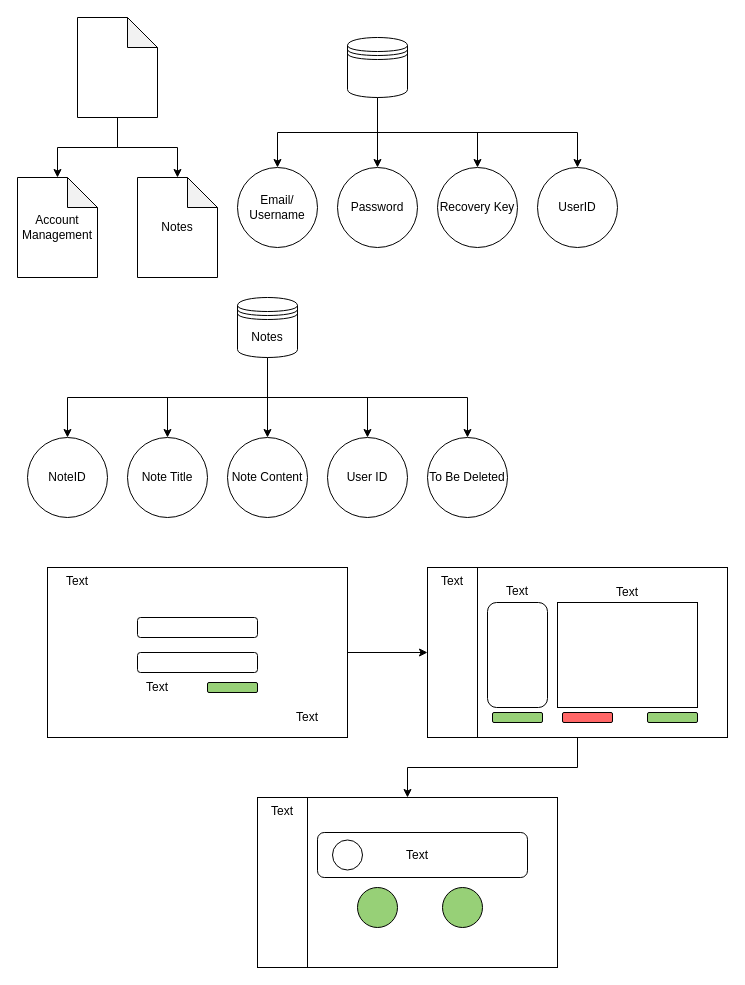
This 745x985 diagram has some shape labels left out. Here are the shapes that lost their labels. From the top down, the centre of each, then its label:
At point (117, 67): "Login".
At point (377, 67): "Accounts".
